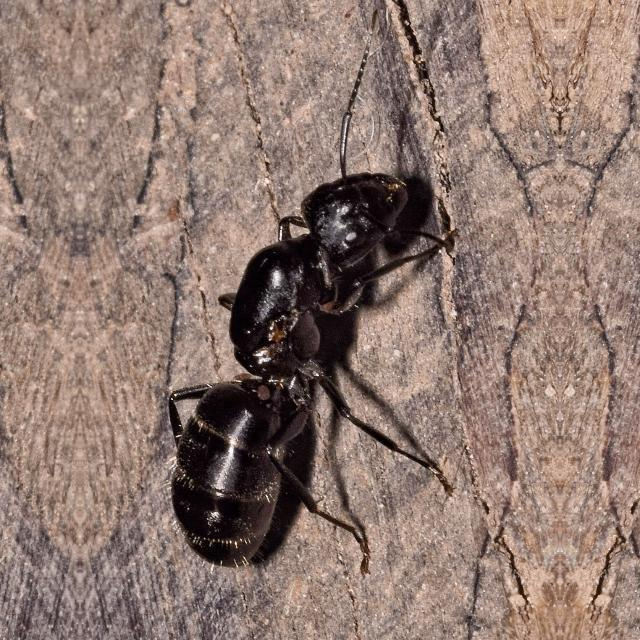Camponotus: (148, 59, 430, 589)
